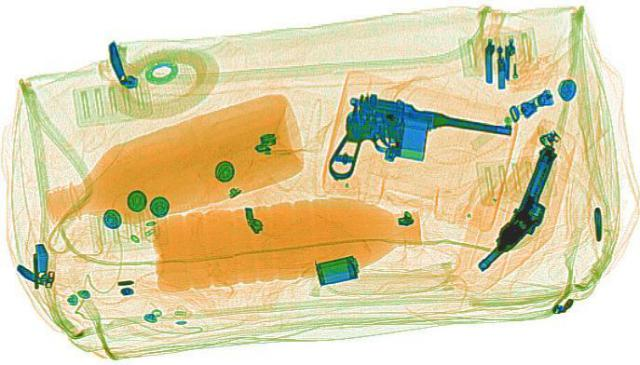Gun: (313, 91, 522, 198), (473, 144, 572, 273)
